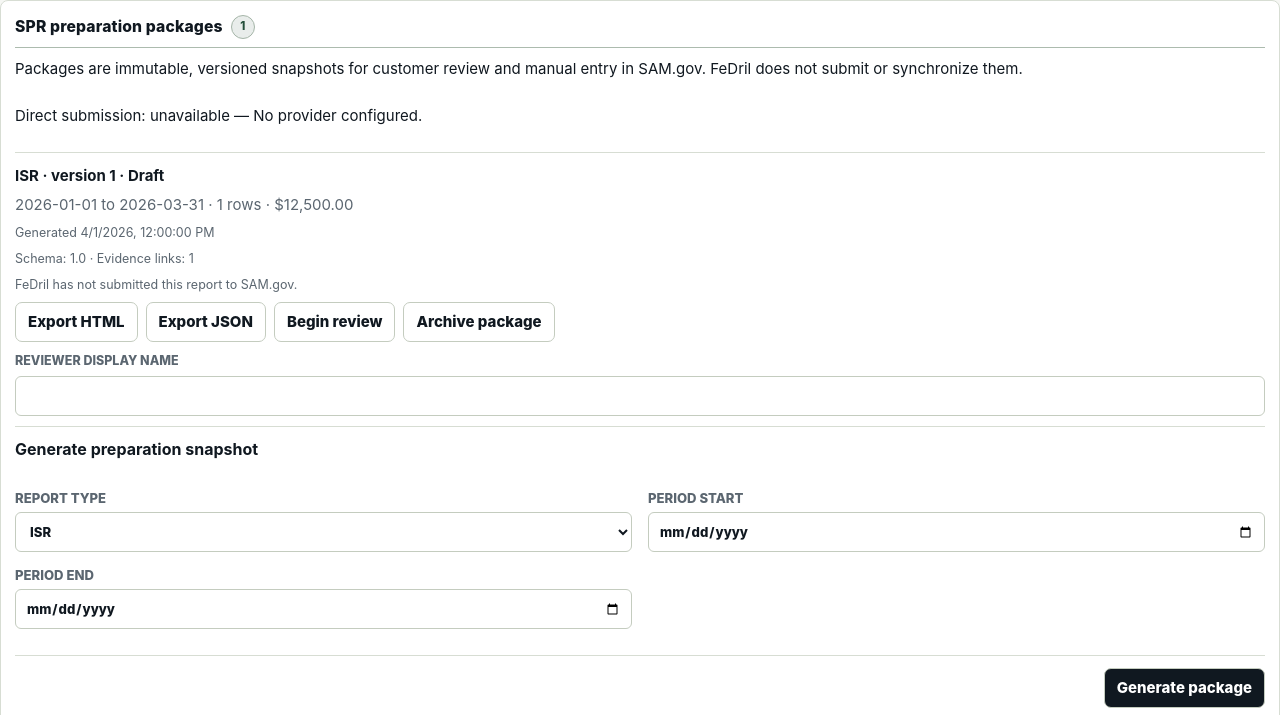
Test: SprReportPackagesPanel › reviews and approves a package before recording a user-reported external receipt
Type "Avery" into the field labelled "Reviewer display name" at [640, 396], box x1=15 y1=376 x2=1265 y2=416
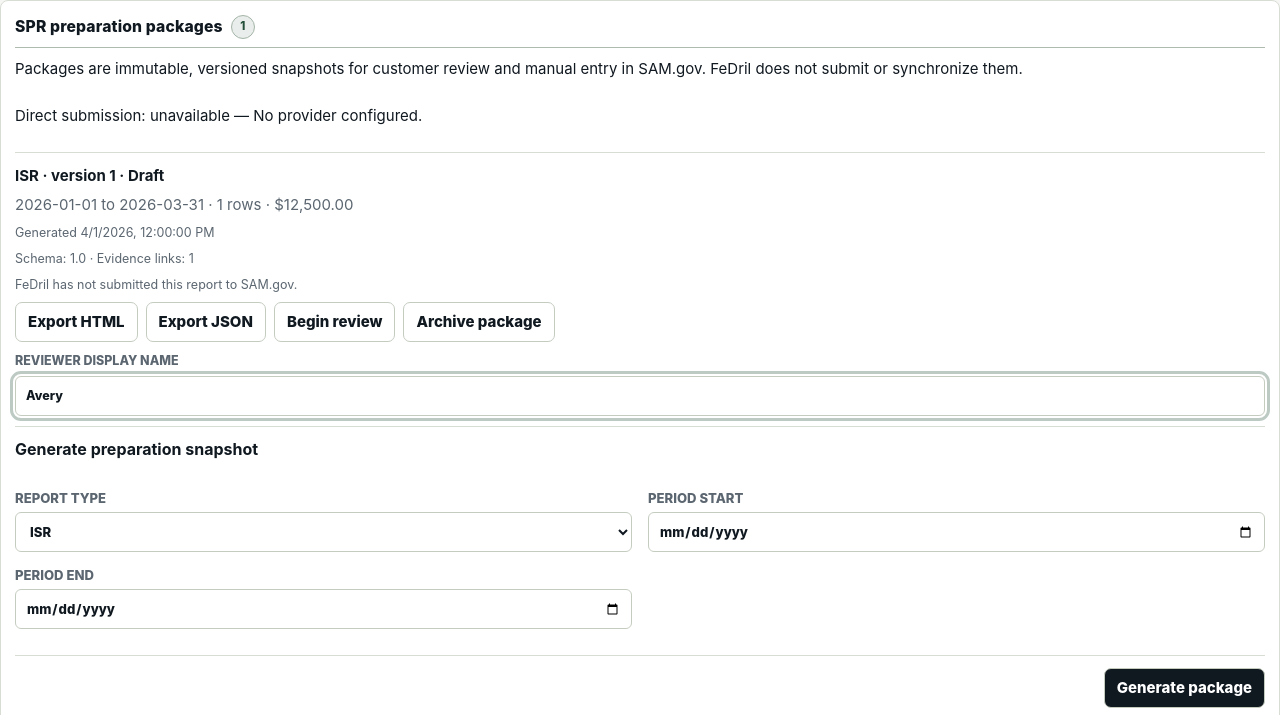
Expected: the button "Approve package" is not shown
Click the button "Begin review" at [335, 322], box x1=274 y1=302 x2=395 y2=342
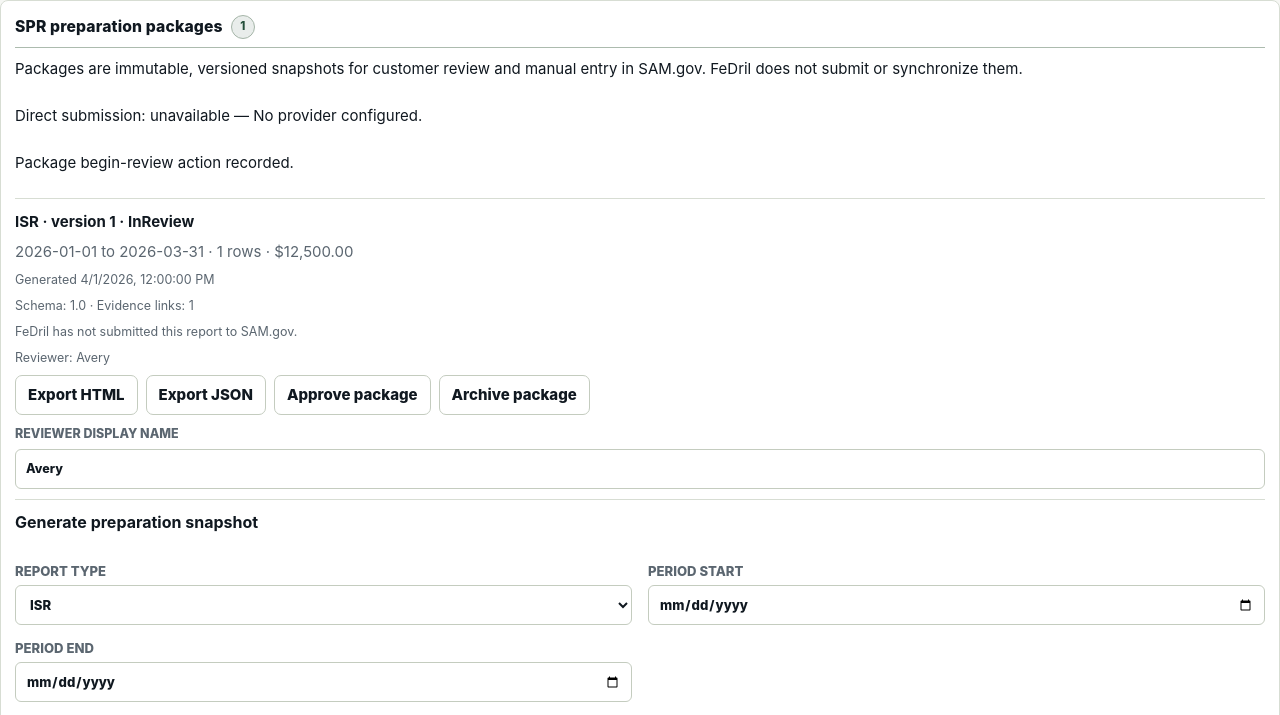
Click the button "Approve package" at [352, 395], box x1=274 y1=375 x2=430 y2=415
(page scrolled)
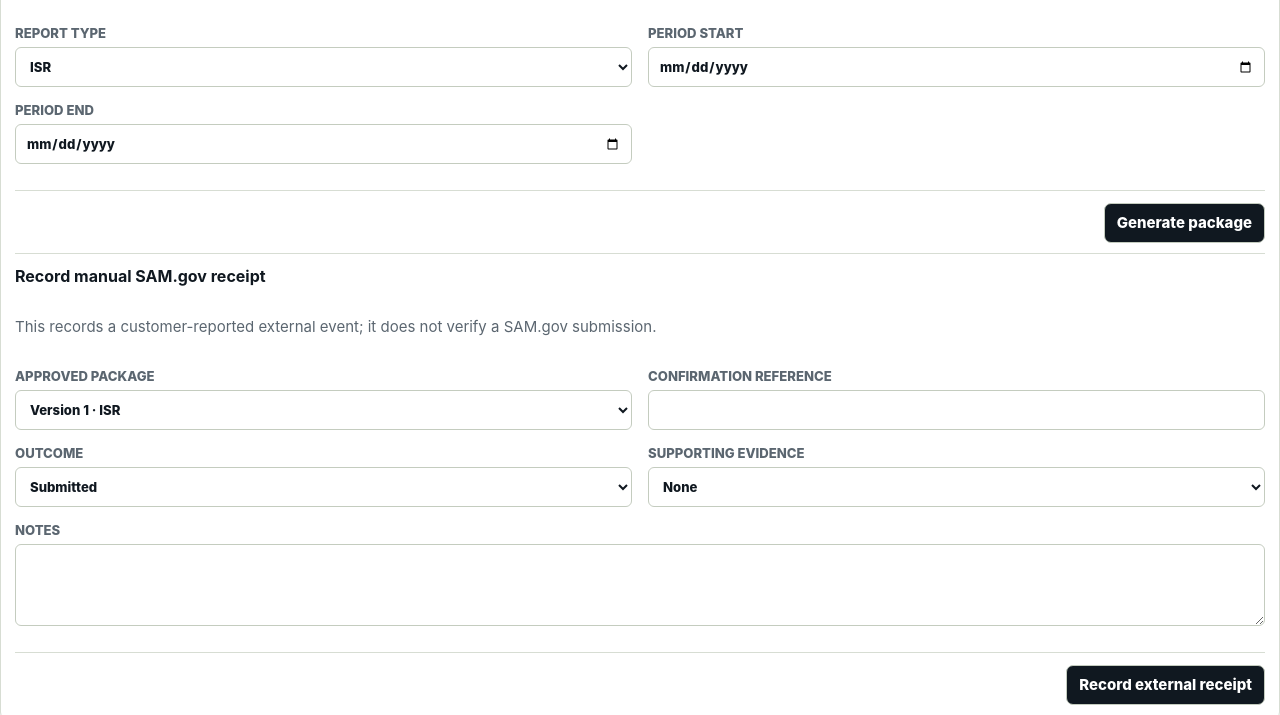
Type "SAM-123" into the field labelled "Confirmation reference" at [956, 410], box x1=648 y1=390 x2=1265 y2=430
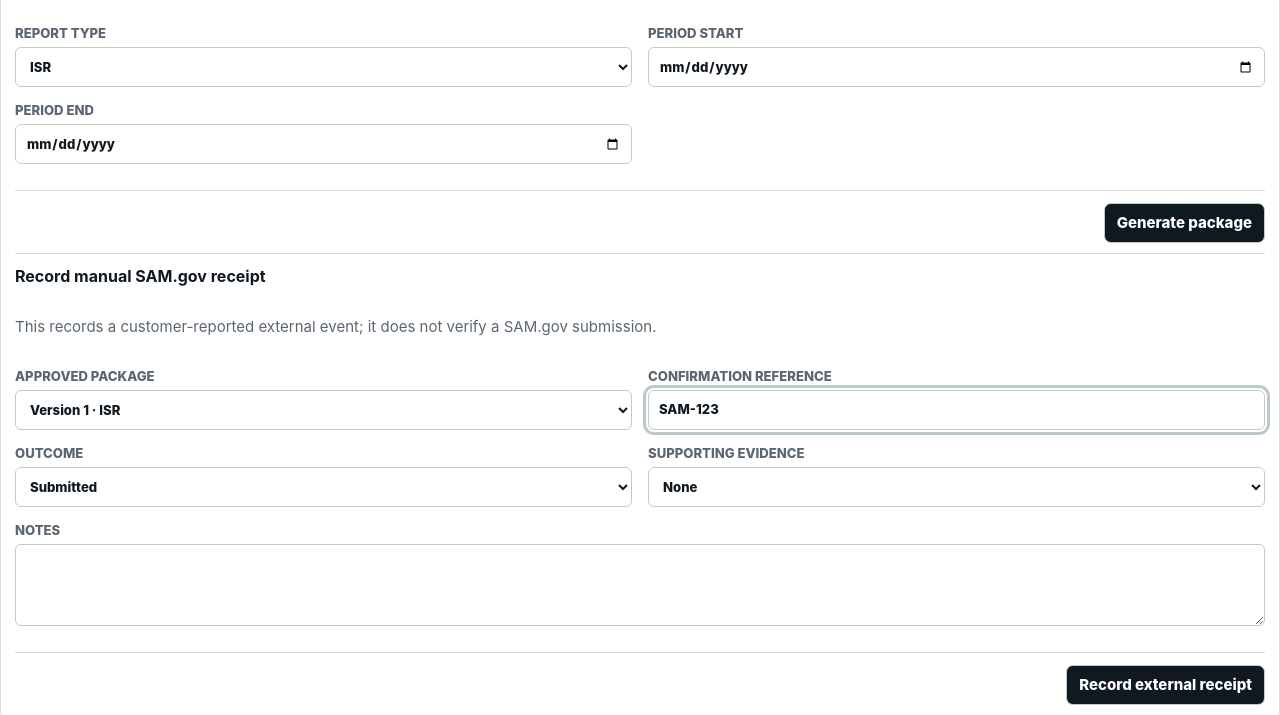
Select "SAM confirmation" in the dropdown labelled "Supporting evidence" at [956, 487], box x1=648 y1=467 x2=1265 y2=507
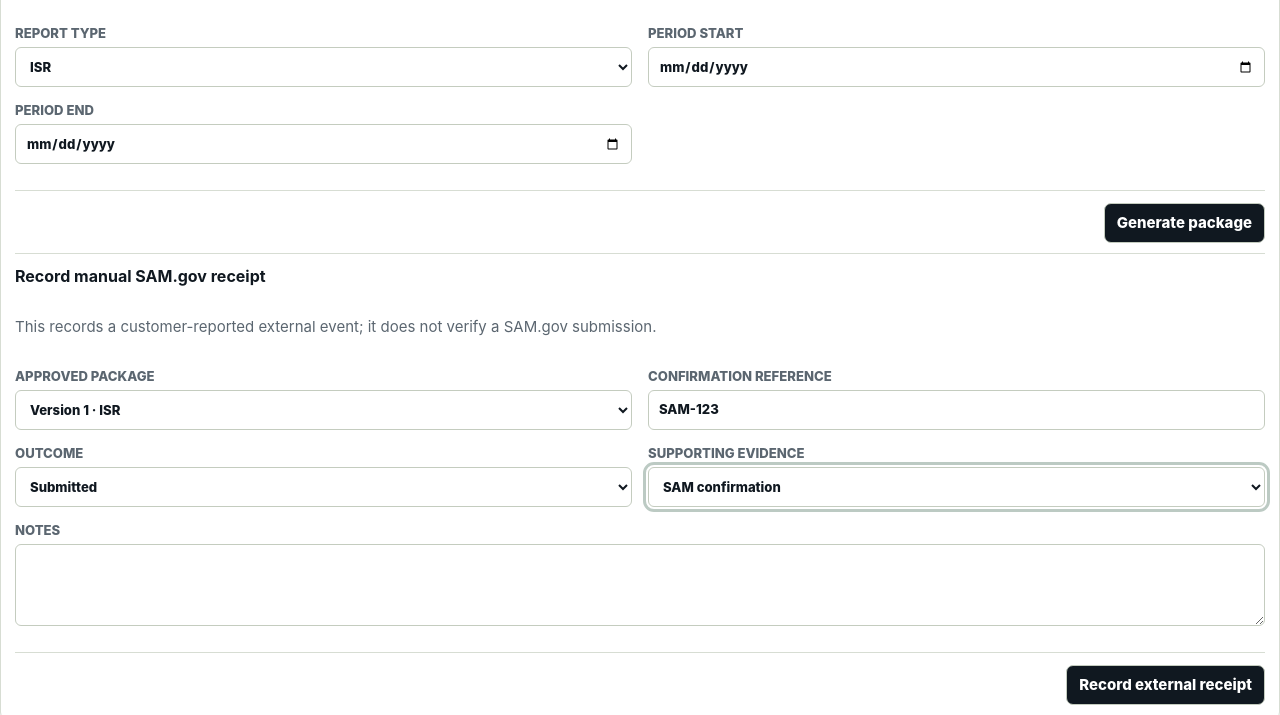
Click the button "Record external receipt" at [1166, 685], box x1=1066 y1=665 x2=1265 y2=705
(page scrolled)
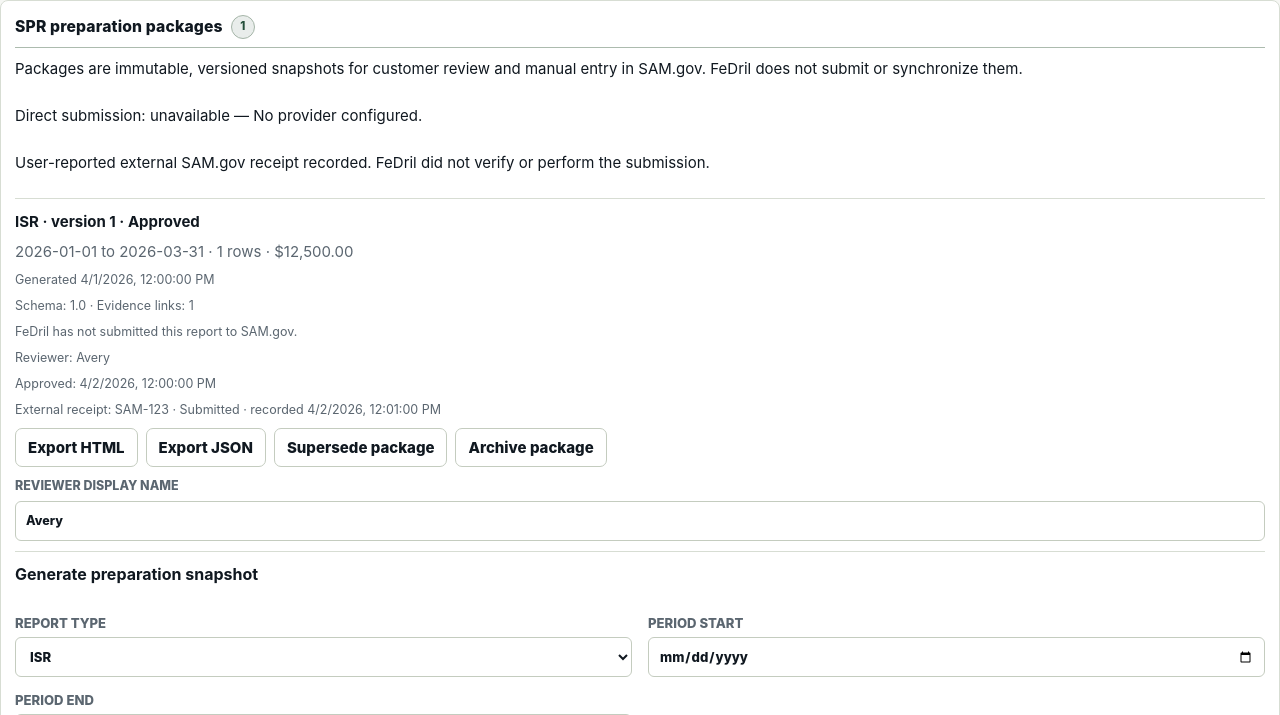
Expected: the text "did not verify or perform the submission" is shown, x1=15 y1=152 x2=710 y2=172
